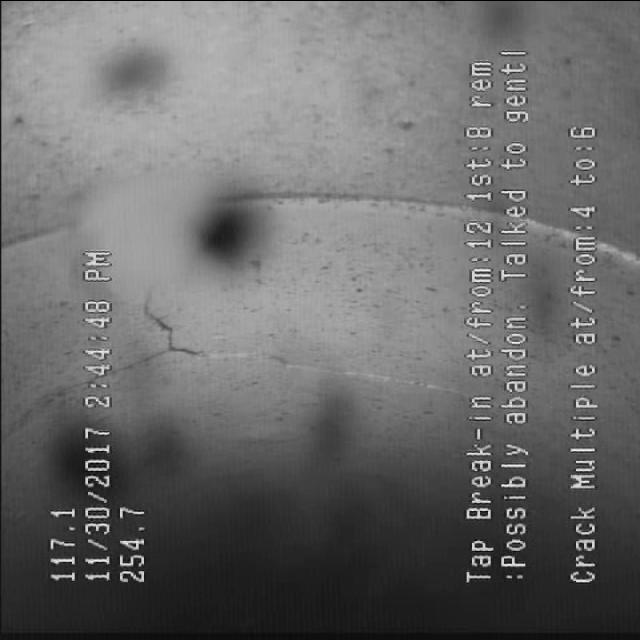Crack: (130, 312, 452, 386)
